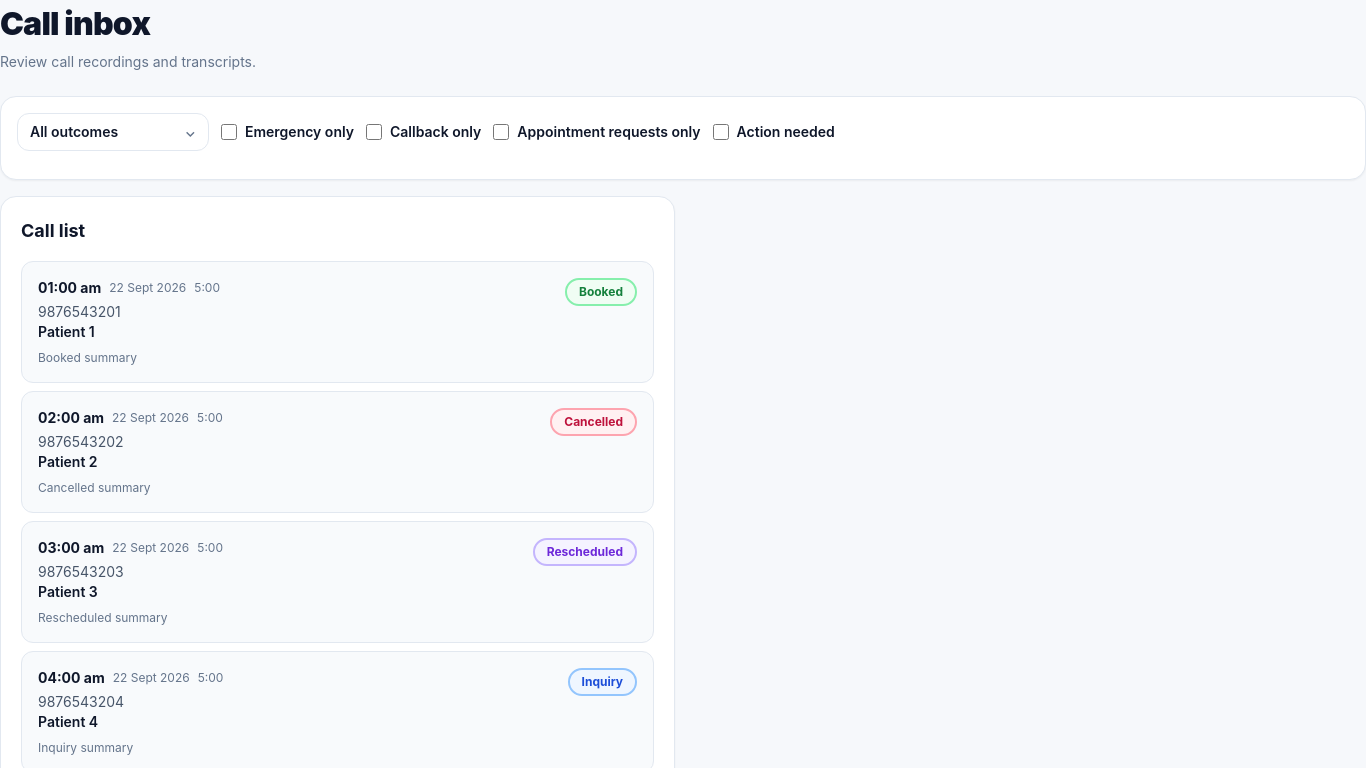
Test case: CallInboxPageContent › closes the outcome menu with Escape
Expected: the text "Booked summary" is shown, x1=38 y1=350 x2=137 y2=365
Click the button "All outcomes ⌄" at {"x": 113, "y": 132}, box x1=17 y1=113 x2=209 y2=151
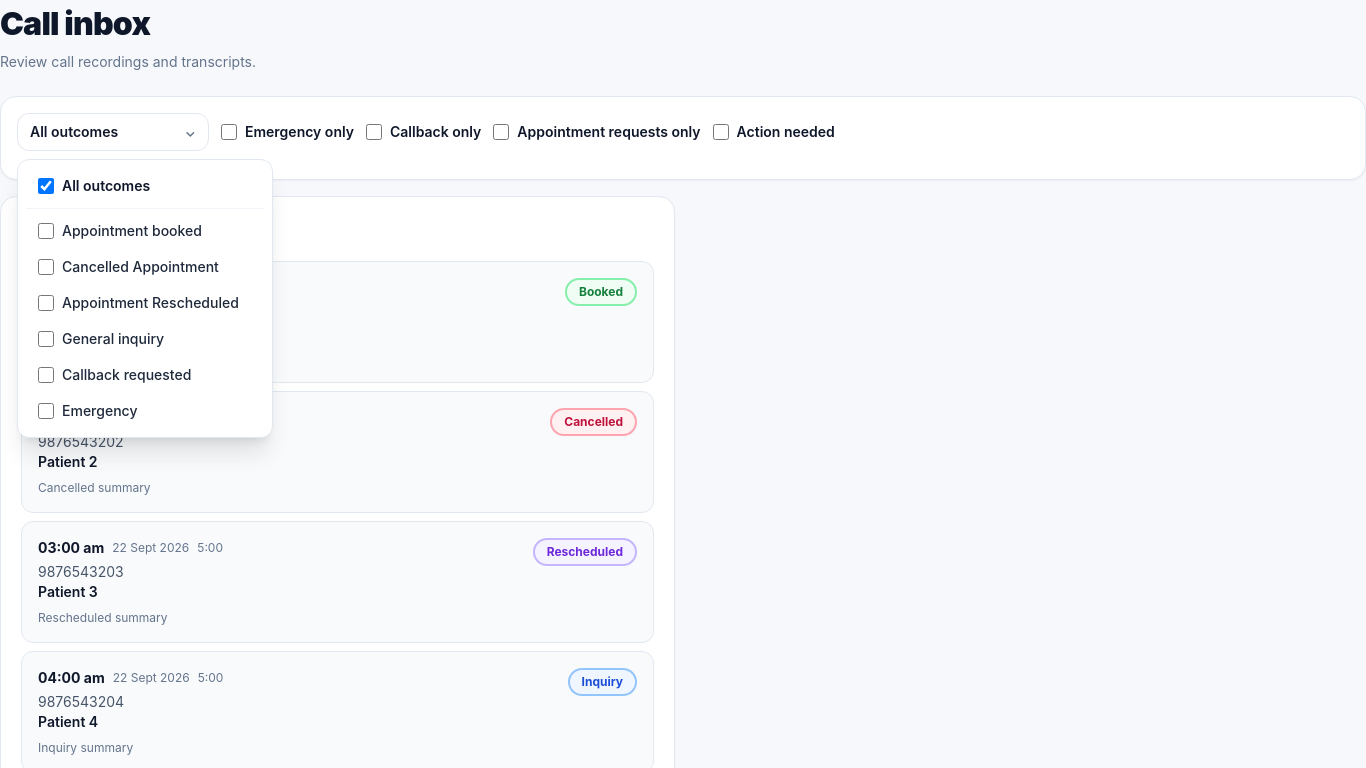
Press Escape
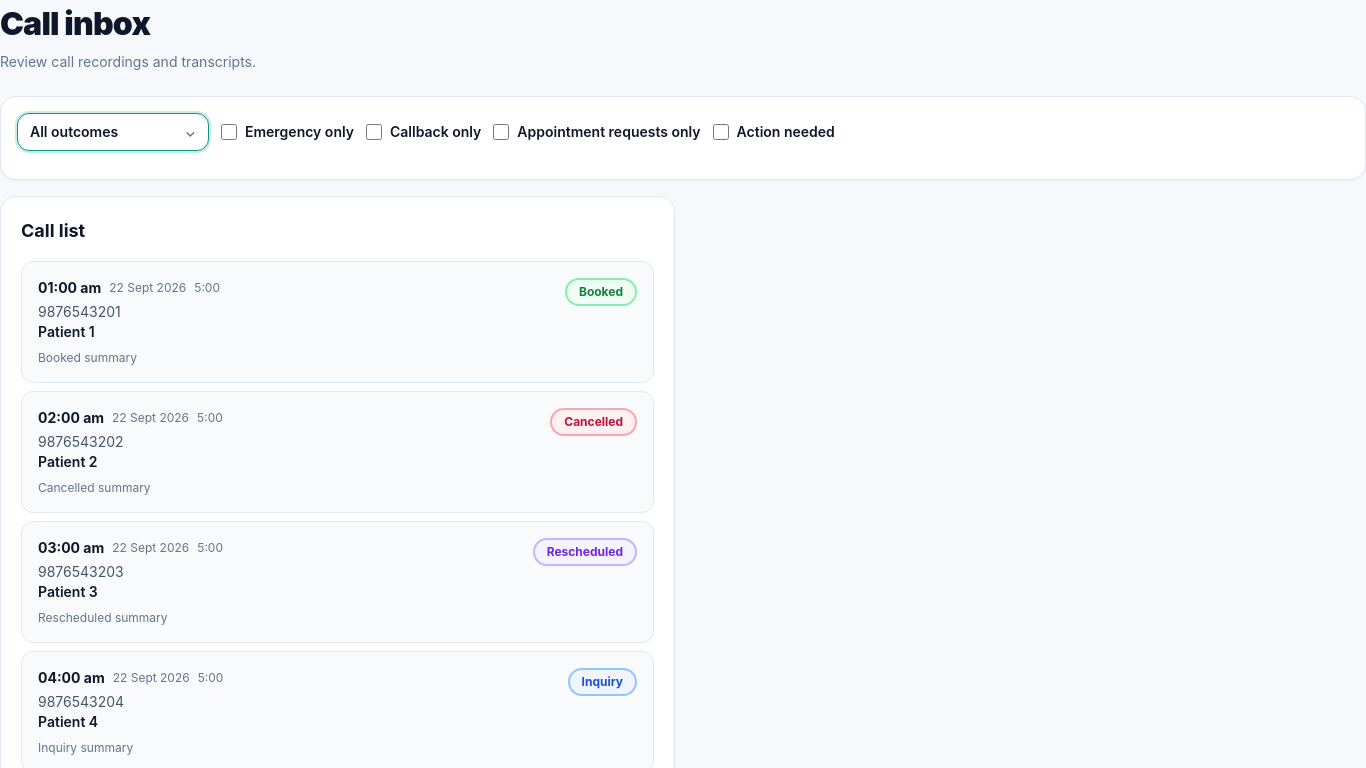
Result: the button "All outcomes ⌄" is collapsed at x1=17 y1=113 x2=209 y2=151
